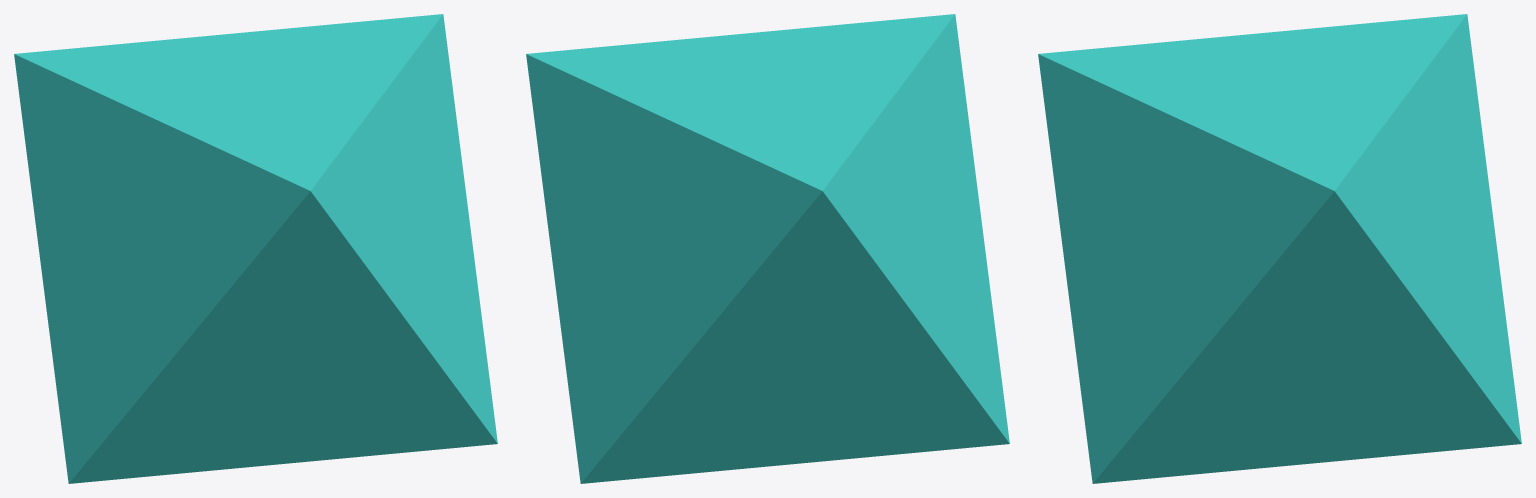
Rendered from Diamond(Pickup).fbx.
The picture shows the model from 3 angles, left to right: view 1: azimuth 30°, elevation 25°; view 2: azimuth 150°, elevation 25°; view 3: azimuth 270°, elevation 25°; orthographic projection.
Visible parts, largest first — view 1: Diamond; view 2: Diamond; view 3: Diamond.
Part boxes in pixels (bbox=[...]): Diamond: bbox=[14, 14, 497, 483]; Diamond: bbox=[526, 14, 1009, 483]; Diamond: bbox=[1038, 14, 1521, 483].
Bounding box in the file's own units: 39.87 × 28.87 × 38.92.
